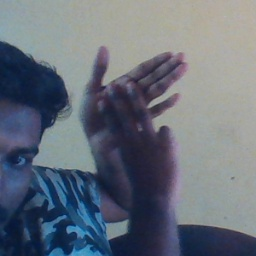M: (72, 44, 191, 174)
